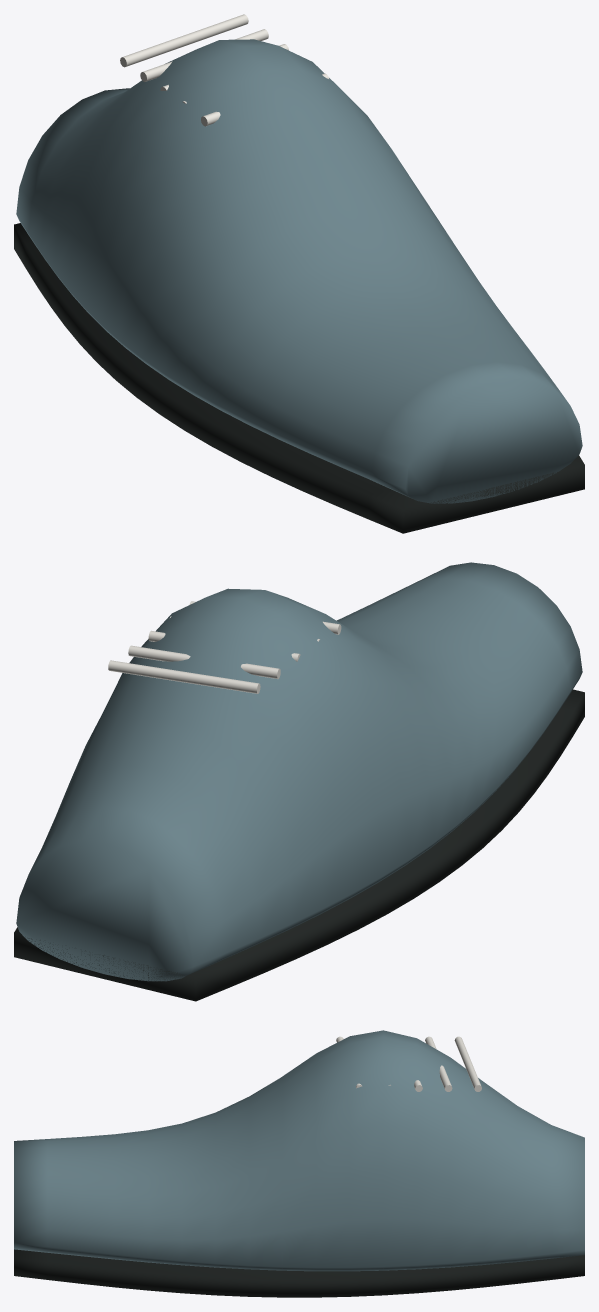
The model's file is sku_v23_sneaker.glb.
3 renders of one model, top to bottom at view 1: azimuth 30°, elevation 25°; view 2: azimuth 150°, elevation 25°; view 3: azimuth 270°, elevation 25°, orthographic. The views are drawn at different scales.
Parts seen in each view (by area): view 1: sku_v23_sneaker_V23_sneaker_canvas, sku_v23_sneaker_Grip_rubber, sku_v23_sneaker_Warm_white_coating; view 2: sku_v23_sneaker_V23_sneaker_canvas, sku_v23_sneaker_Grip_rubber, sku_v23_sneaker_Warm_white_coating; view 3: sku_v23_sneaker_V23_sneaker_canvas, sku_v23_sneaker_Grip_rubber, sku_v23_sneaker_Warm_white_coating.
Boxes of the visible parts, box(x1,y1,x2,y2) form: sku_v23_sneaker_V23_sneaker_canvas: box(16, 39, 582, 503); sku_v23_sneaker_Grip_rubber: box(14, 223, 584, 533); sku_v23_sneaker_Warm_white_coating: box(120, 14, 328, 126); sku_v23_sneaker_V23_sneaker_canvas: box(16, 562, 582, 981); sku_v23_sneaker_Grip_rubber: box(14, 689, 584, 1001); sku_v23_sneaker_Warm_white_coating: box(108, 601, 341, 693); sku_v23_sneaker_V23_sneaker_canvas: box(14, 1030, 584, 1271); sku_v23_sneaker_Grip_rubber: box(14, 1249, 584, 1297); sku_v23_sneaker_Warm_white_coating: box(336, 1036, 481, 1091).
Bounding box in the file's own units: 0.1298 × 0.1151 × 0.289.
